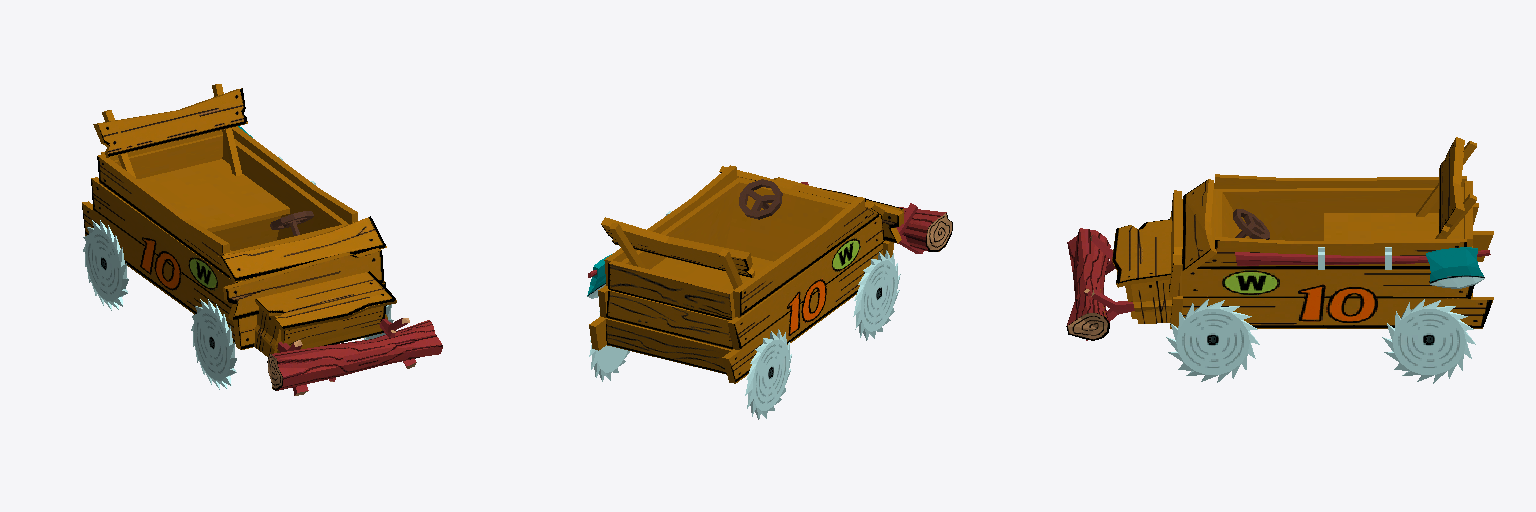
3 views of the same model, side by side, from view 1: azimuth 30°, elevation 25°; view 2: azimuth 150°, elevation 25°; view 3: azimuth 270°, elevation 25° (orthographic).
Visible parts, largest first — view 1: Mesh_0174out, Mesh_0177out, Mesh_0175out; view 2: Mesh_0174out, Mesh_0175out, Mesh_0177out, Mesh_0176out; view 3: Mesh_0174out, Mesh_0044out, Mesh_0176out.
Part boxes in pixels (x1,y1,x2,y2): Mesh_0174out: (82,84,442,395); Mesh_0177out: (191,299,236,389); Mesh_0175out: (83,220,128,310); Mesh_0174out: (587,165,952,383); Mesh_0175out: (745,329,791,419); Mesh_0177out: (853,250,900,340); Mesh_0176out: (589,311,629,381); Mesh_0174out: (1066,137,1493,340); Mesh_0044out: (1166,299,1259,382); Mesh_0176out: (1382,299,1475,383).
Bounding box in the file's own units: 2.19 × 2.24 × 4.9.
1 materials, 1 textured.